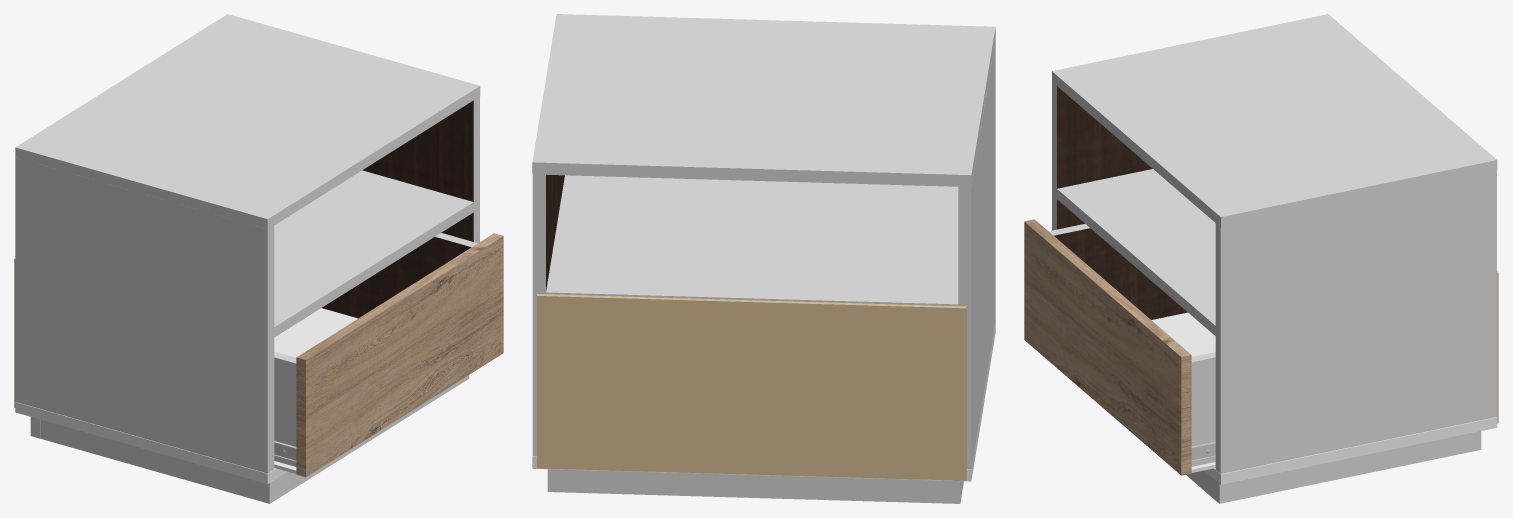
The model's file is mesa_de_noche_verona.glb.
3 renders of one model, left to right at view 1: azimuth 30°, elevation 25°; view 2: azimuth 150°, elevation 25°; view 3: azimuth 270°, elevation 25°, orthographic. The views are drawn at different scales.
Parts seen in each view (by area): view 1: LATERAL_3, Cubo_0, Cubo.007_6, Cubo.005_4, Cubo.011_22, Cubo.001_17, lateral cajon.001_23, Cubo.002_1, Cubo.008_7, w cajon lateral 2_9, Cubo.021_18, Cubo.003_2; view 2: Cubo.006_5, Cubo_0, Cubo.005_4, Cubo.020_16, LATERAL_3, Cubo.003_2, Cubo.011_22, Cubo.002_1; view 3: Cubo.003_2, Cubo_0, Cubo.007_6, Cubo.005_4, LATERAL.001_19, Cubo.019_15, cajonlateral 2_24, Cubo.002_1, lateral cajon_8, Cubo.008_7, LATERAL_3, Cubo.021_18.
Part boxes in pixels (x1,y1,x2,y2): LATERAL_3: [15, 157, 274, 473]; Cubo_0: [15, 14, 480, 229]; Cubo.007_6: [296, 233, 503, 477]; Cubo.005_4: [274, 170, 473, 337]; Cubo.011_22: [362, 100, 473, 241]; Cubo.001_17: [40, 419, 260, 500]; lateral cajon.001_23: [322, 237, 471, 318]; Cubo.002_1: [15, 402, 287, 483]; Cubo.008_7: [274, 308, 357, 473]; w cajon lateral 2_9: [274, 351, 296, 466]; Cubo.021_18: [260, 375, 469, 503]; Cubo.003_2: [473, 96, 479, 242]; Cubo.006_5: [537, 294, 966, 480]; Cubo_0: [532, 14, 995, 186]; Cubo.005_4: [546, 175, 958, 306]; Cubo.020_16: [547, 469, 961, 503]; LATERAL_3: [958, 39, 995, 469]; Cubo.003_2: [532, 174, 545, 456]; Cubo.011_22: [546, 174, 564, 290]; Cubo.002_1: [532, 322, 995, 481]; Cubo.003_2: [1215, 170, 1496, 473]; Cubo_0: [1052, 14, 1497, 227]; Cubo.007_6: [1024, 219, 1191, 475]; Cubo.005_4: [1057, 169, 1215, 335]; LATERAL.001_19: [1057, 86, 1152, 229]; Cubo.019_15: [1230, 433, 1470, 501]; cajonlateral 2_24: [1054, 228, 1187, 319]; Cubo.002_1: [1204, 417, 1497, 484]; lateral cajon_8: [1191, 352, 1215, 466]; Cubo.008_7: [1151, 312, 1215, 472]; LATERAL_3: [1052, 82, 1056, 230]; Cubo.021_18: [1186, 470, 1229, 503].
Size of the model in its own units: 0.6306 by 0.4196 by 0.617.
6 materials, 2 textured.
